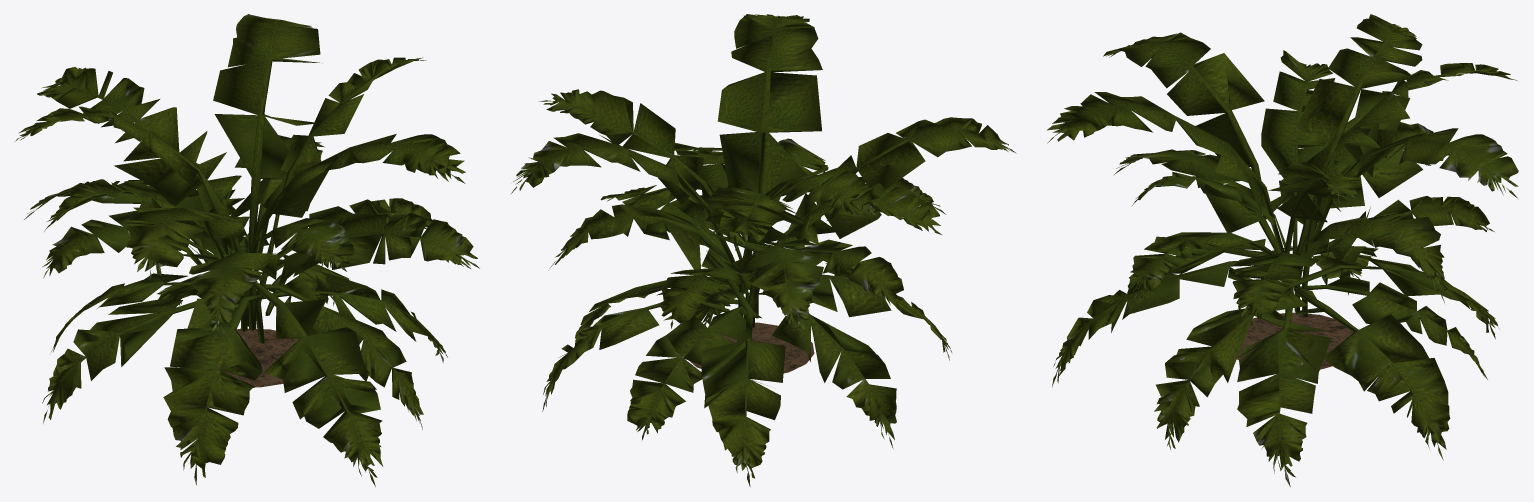
File: jungle_fern.glb
3 views of the same model, side by side, from view 1: azimuth 30°, elevation 25°; view 2: azimuth 150°, elevation 25°; view 3: azimuth 270°, elevation 25° (orthographic). The views are drawn at different scales.
Parts seen in each view (by area): view 1: tripo_node_bd7134f2-f172-4f20-8fe6-ad44a093eb46; view 2: tripo_node_bd7134f2-f172-4f20-8fe6-ad44a093eb46; view 3: tripo_node_bd7134f2-f172-4f20-8fe6-ad44a093eb46.
Part boxes in pixels (left/top/right/bottom): tripo_node_bd7134f2-f172-4f20-8fe6-ad44a093eb46: left=15, top=14, right=479, bottom=486; tripo_node_bd7134f2-f172-4f20-8fe6-ad44a093eb46: left=510, top=14, right=1016, bottom=486; tripo_node_bd7134f2-f172-4f20-8fe6-ad44a093eb46: left=1047, top=14, right=1518, bottom=487.
Bounding box in the file's own units: 0.998 × 0.7441 × 0.998.
Materials: 1 (1 with a texture image).
